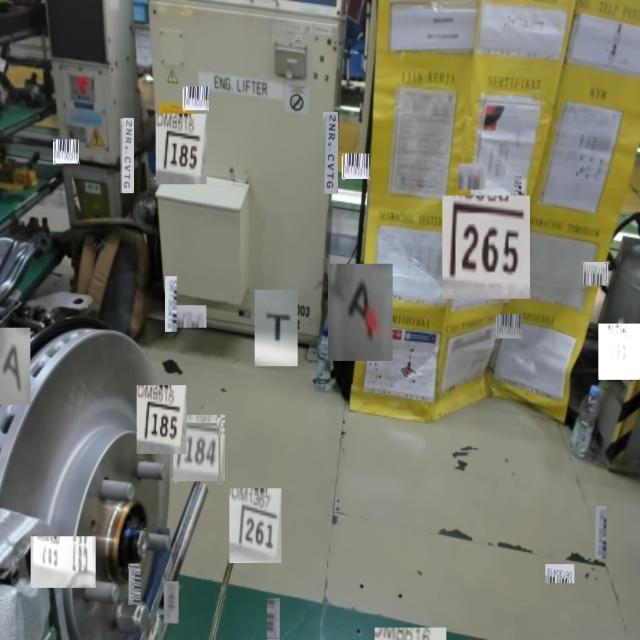Compressor-A: (343, 275, 376, 342), (0, 342, 24, 401)
Compressor-T: (264, 303, 292, 348)
Disc-SV: (41, 400, 136, 534)
Engine Assy-184: (181, 432, 216, 468)
Engine Assy-185: (141, 392, 180, 446), (162, 130, 204, 176)
Engine Assy-261: (238, 502, 277, 554)
Engine Assy-265: (449, 205, 523, 283)
Transaxele-C87-A27: (36, 545, 90, 578)
